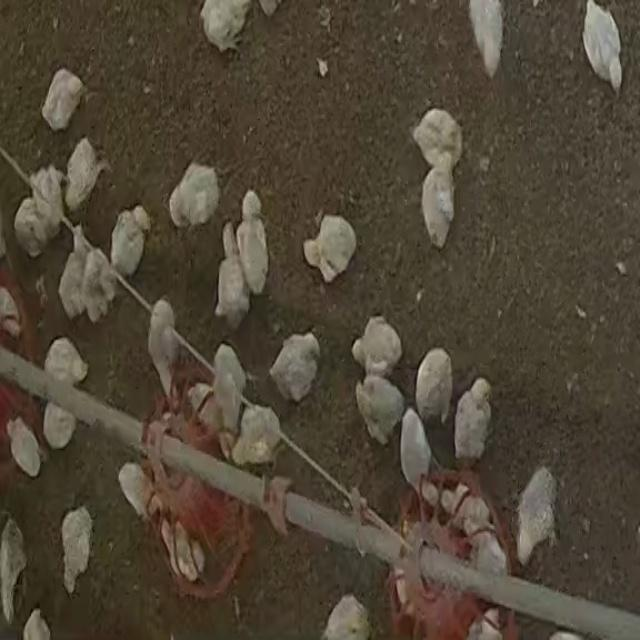chicken: (513, 467, 557, 568), (162, 162, 225, 226), (303, 211, 358, 283), (214, 221, 250, 331), (213, 343, 249, 446), (353, 372, 403, 445), (235, 191, 269, 298), (64, 136, 110, 213), (147, 300, 181, 404), (582, 2, 622, 90), (422, 155, 461, 245), (230, 402, 283, 468), (409, 102, 466, 163), (270, 330, 324, 393), (453, 379, 493, 463), (414, 347, 454, 427), (399, 410, 433, 504), (0, 516, 29, 623), (351, 316, 404, 374), (60, 507, 93, 597), (110, 204, 149, 277), (28, 166, 67, 236), (42, 68, 85, 131), (468, 1, 503, 78), (57, 229, 86, 317), (81, 246, 115, 318), (44, 336, 88, 390), (13, 198, 52, 258), (444, 486, 497, 530), (321, 594, 371, 638), (6, 416, 42, 476), (170, 522, 203, 583), (117, 463, 151, 519), (42, 402, 76, 452), (185, 381, 217, 432)
